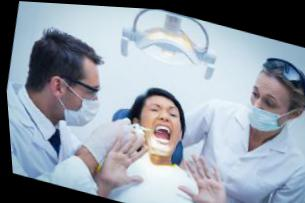NONE: (134, 96, 184, 159)
OK: (59, 70, 106, 132)
WRONG: (239, 78, 288, 134)
